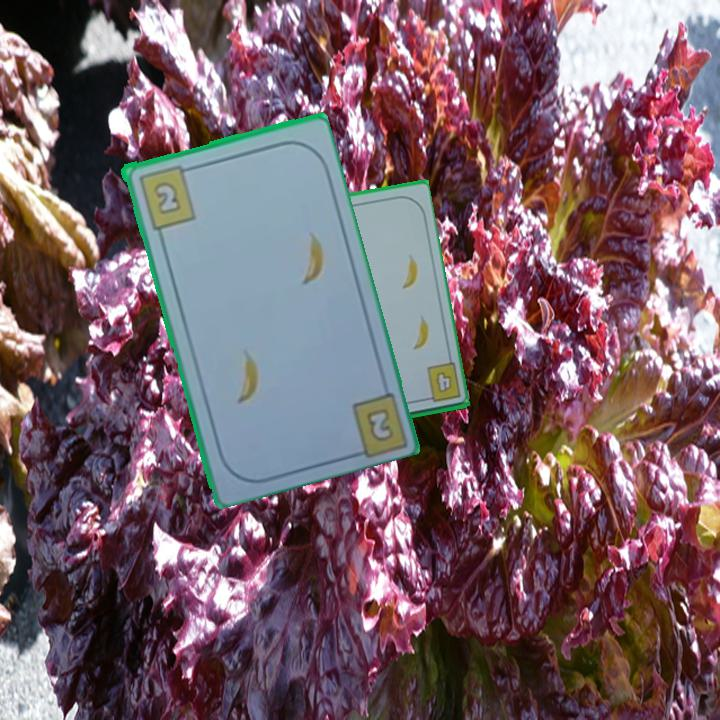2b: (134, 161, 198, 232), (362, 404, 397, 445)
4b: (419, 359, 463, 405)
